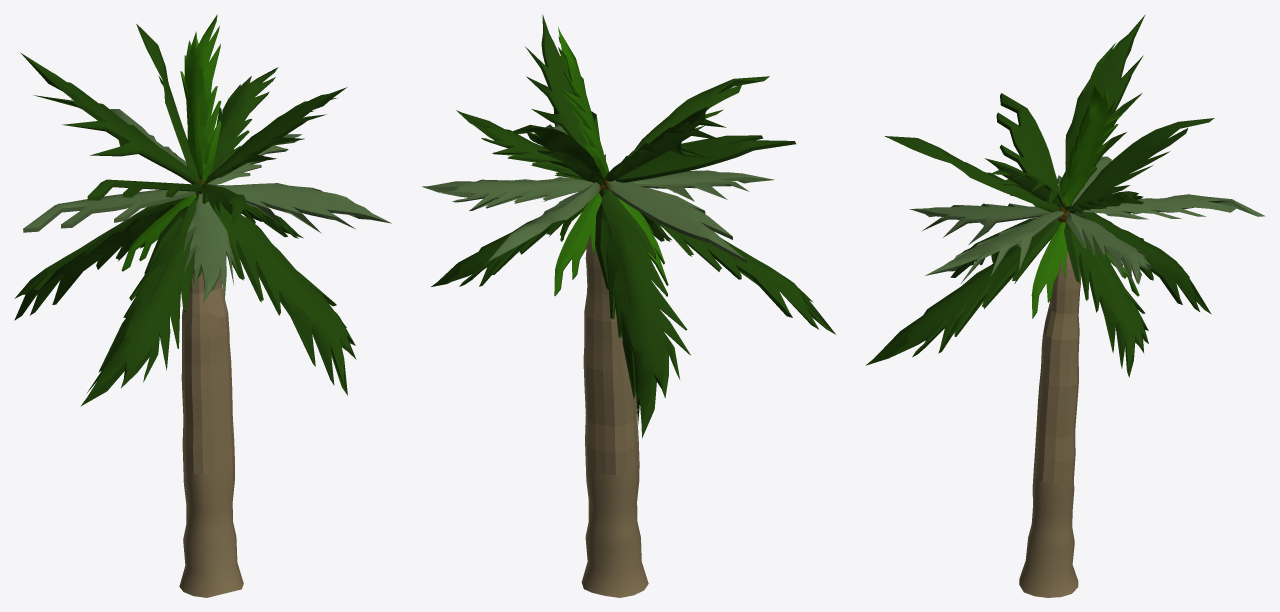
Rendered from PalmTree.fbx.
3 views of the same model, side by side, from view 1: azimuth 30°, elevation 25°; view 2: azimuth 150°, elevation 25°; view 3: azimuth 270°, elevation 25° (orthographic). The views are drawn at different scales.
Visible parts, largest first — view 1: PalmTree; view 2: PalmTree; view 3: PalmTree.
Part boxes in pixels (bbox=[...]): PalmTree: bbox=[14, 14, 391, 597]; PalmTree: bbox=[422, 14, 835, 597]; PalmTree: bbox=[865, 14, 1265, 597].
Size of the model in its own units: 5.51 by 9.25 by 6.44.
Materials: 4 (4 with a texture image).
